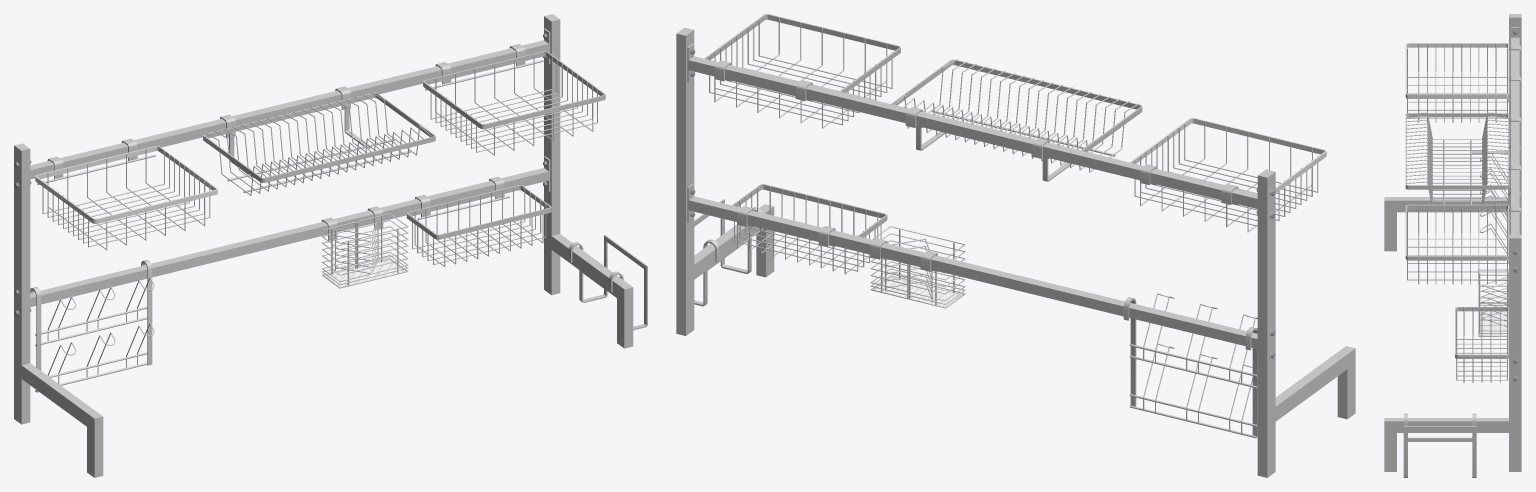
File: 132 - abchekan 120cm sefid.glb
3 renders of one model, left to right at view 1: azimuth 30°, elevation 25°; view 2: azimuth 150°, elevation 25°; view 3: azimuth 270°, elevation 25°, orthographic. The views are drawn at different scales.
Parts seen in each view (by area): view 1: Group#79 [77788] (×2), Group#67 [48954] (×2), Group#65 [48986] (×2), Group#66 [49004], Group#53 [48934], Group#82 [77794], Group#69 [49030]; view 2: Group#67 [48954] (×2), Group#79 [77788] (×2), Group#65 [48986] (×2), Group#66 [49004], Group#53 [48934], Group#82 [77794], Group#64 [48920], Group#69 [49030]; view 3: Group#79 [77788] (×2), Group#45 [39930] (×17), Group#65 [48986] (×2), Group#67 [48954], Group#41 [42652] (×7), Group#82 [77794], Group#66 [49004], Group#53 [48934], Group#69 [49030], Group#42 [42567].
Boxes of the visible parts, <box> form: Group#79 [77788] (×2): <box>14,14,633,477</box>; Group#67 [48954] (×2): <box>30,40,548,306</box>; Group#65 [48986] (×2): <box>35,51,605,223</box>; Group#66 [49004]: <box>203,92,435,182</box>; Group#53 [48934]: <box>406,185,551,239</box>; Group#82 [77794]: <box>568,235,647,330</box>; Group#69 [49030]: <box>322,259,407,288</box>; Group#67 [48954] (×2): <box>688,56,1257,348</box>; Group#79 [77788] (×2): <box>676,27,1355,477</box>; Group#65 [48986] (×2): <box>704,14,1326,193</box>; Group#66 [49004]: <box>891,59,1142,151</box>; Group#53 [48934]: <box>732,184,887,237</box>; Group#82 [77794]: <box>694,199,762,306</box>; Group#64 [48920]: <box>1123,297,1136,406</box>; Group#69 [49030]: <box>871,276,964,308</box>; Group#79 [77788] (×2): <box>1384,14,1521,471</box>; Group#45 [39930] (×17): <box>1405,112,1509,201</box>; Group#65 [48986] (×2): <box>1405,43,1509,260</box>; Group#67 [48954]: <box>1511,37,1519,234</box>; Group#41 [42652] (×7): <box>1407,64,1507,280</box>; Group#82 [77794]: <box>1403,413,1476,477</box>; Group#66 [49004]: <box>1405,113,1509,189</box>; Group#53 [48934]: <box>1455,307,1508,358</box>; Group#69 [49030]: <box>1479,311,1506,336</box>; Group#42 [42567]: <box>1478,269,1508,298</box>.
Bounding box in the file's own units: 1.3 × 0.6 × 0.32.
4 materials, 2 textured.
